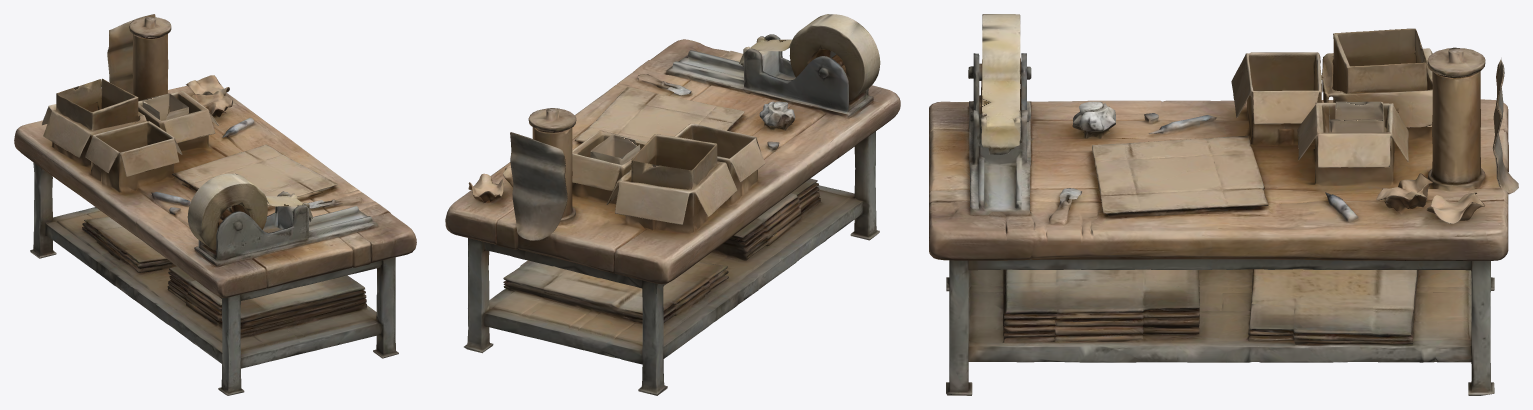
File: bancada.glb
3 views of the same model, side by side, from view 1: azimuth 30°, elevation 25°; view 2: azimuth 150°, elevation 25°; view 3: azimuth 270°, elevation 25° (orthographic). The views are drawn at different scales.
Visible parts, largest first — view 1: bancada; view 2: bancada; view 3: bancada.
Boxes of the visible parts, x1,y1,x2,y2 form: bancada: [14, 14, 416, 395]; bancada: [445, 14, 900, 395]; bancada: [929, 14, 1518, 395].
Bounding box in the file's own units: 0.9917 × 1.01 × 1.8.
1 material, 1 textured.
